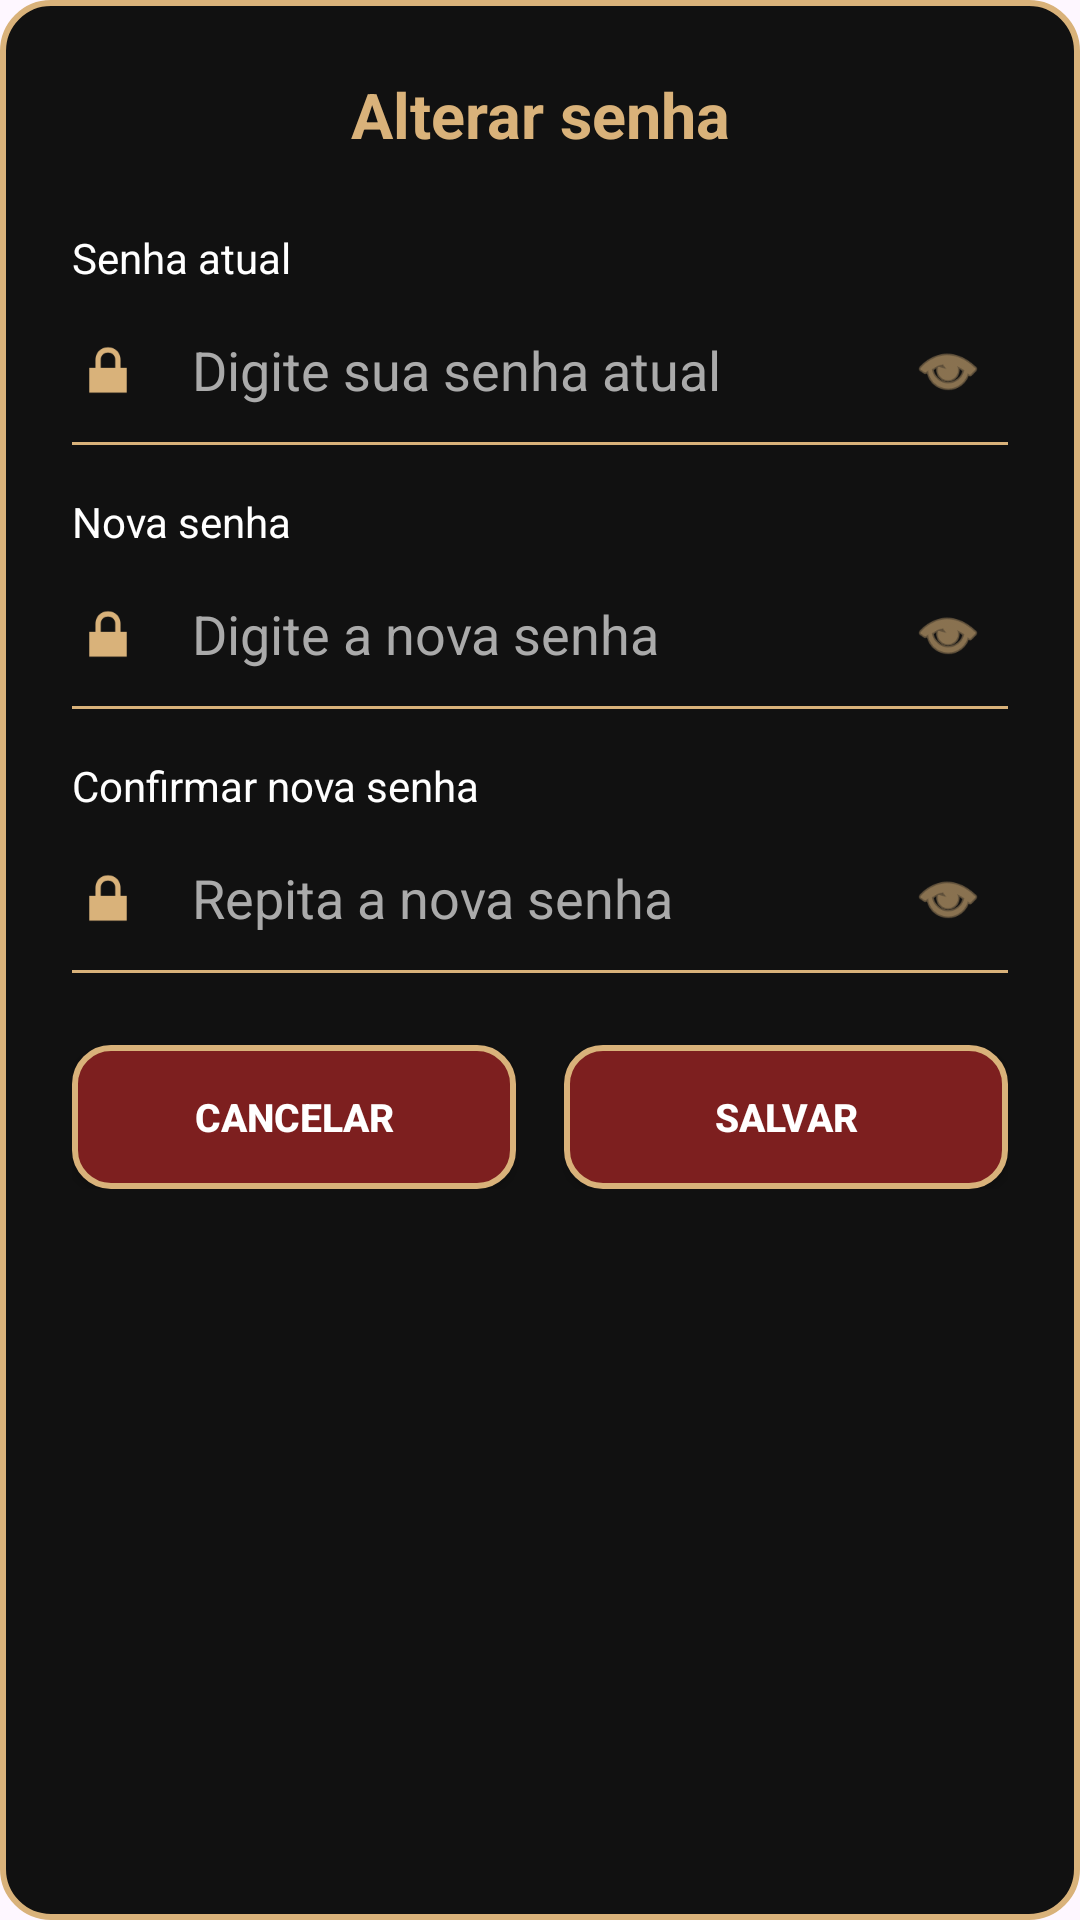

Locate icon controls on the screen. Image size 1080x1920, boxes as (x1=x1, y1=y1, x2=x2, y2=y2).
Cadeado: (x1=89, y1=347, x2=127, y2=393), (x1=89, y1=611, x2=127, y2=657), (x1=89, y1=875, x2=127, y2=921)
Mostrar ou ocultar confirmação da senha: (x1=919, y1=881, x2=977, y2=918)
